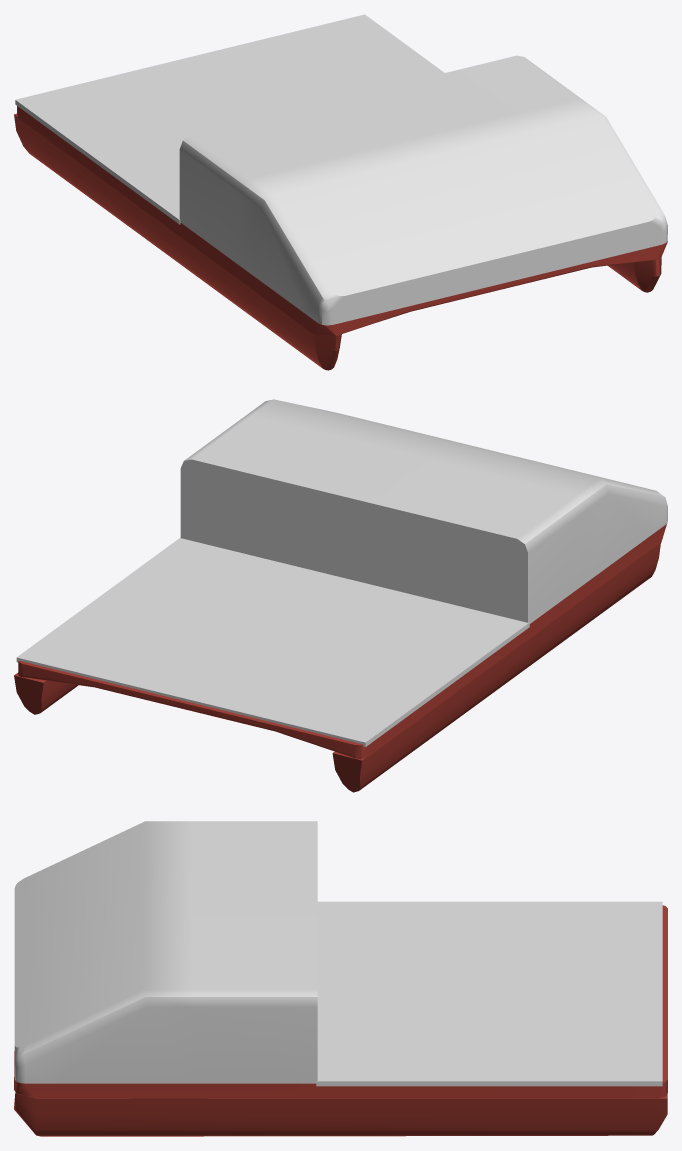
Rendered from autonomik.fbx.
3 renders of one model, top to bottom at view 1: azimuth 30°, elevation 25°; view 2: azimuth 150°, elevation 25°; view 3: azimuth 270°, elevation 25°, orthographic. The views are drawn at different scales.
Visible parts, largest first — view 1: polySurface18; view 2: polySurface18; view 3: polySurface18.
Boxes of the visible parts, <box> form: polySurface18: <box>14,14,667,370</box>; polySurface18: <box>14,399,667,792</box>; polySurface18: <box>14,821,667,1136</box>.
Size of the model in its own units: 9.38 by 3.6 by 14.41.
